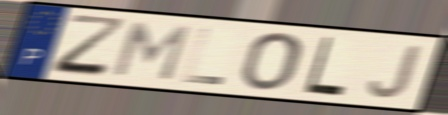J: (366, 43, 425, 101)
L: (301, 34, 347, 99), (180, 26, 227, 87)
M: (108, 20, 194, 84)
O: (239, 31, 305, 93)
Z: (49, 12, 131, 80)
